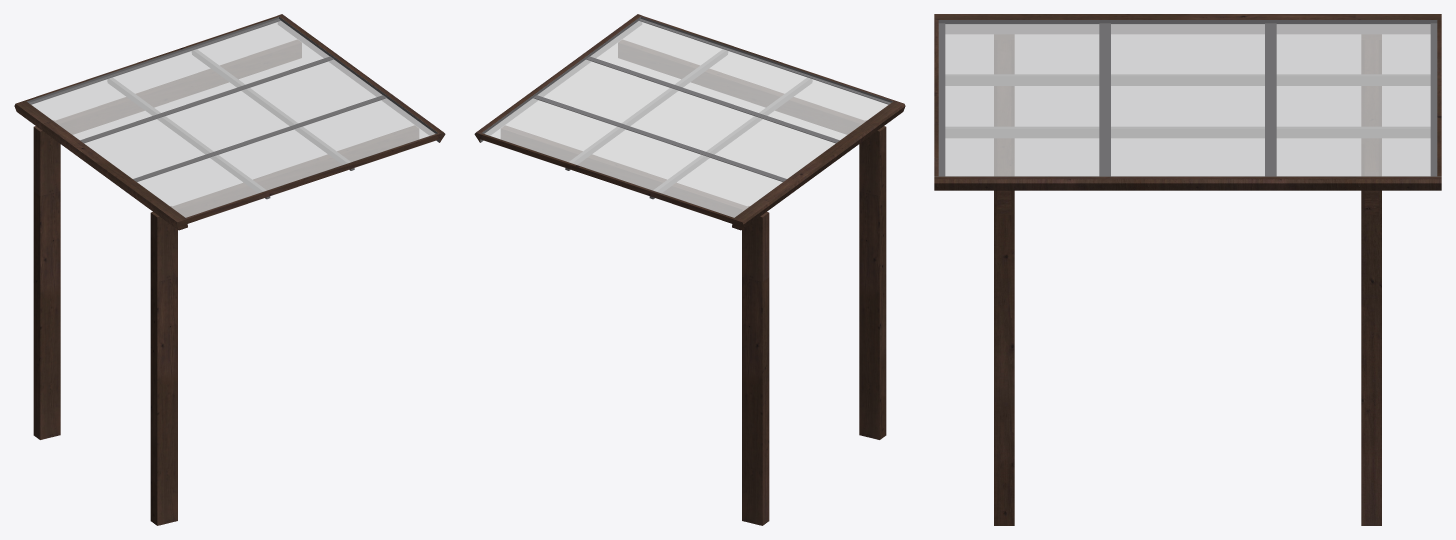
The model's file is 2121-22_darkpine.fbx.
3 views of the same model, side by side, from view 1: azimuth 30°, elevation 25°; view 2: azimuth 150°, elevation 25°; view 3: azimuth 270°, elevation 25° (orthographic). The views are drawn at different scales.
Parts seen in each view (by area): view 1: 2121-22darkpine; view 2: 2121-22darkpine; view 3: 2121-22darkpine.
Part boxes in pixels (x1,y1,x2,y2): 2121-22darkpine: [14, 14, 445, 525]; 2121-22darkpine: [474, 14, 905, 525]; 2121-22darkpine: [934, 14, 1441, 525].
Bounding box in the file's own units: 210 × 255 × 219.
Materials: 4 (2 with a texture image).
